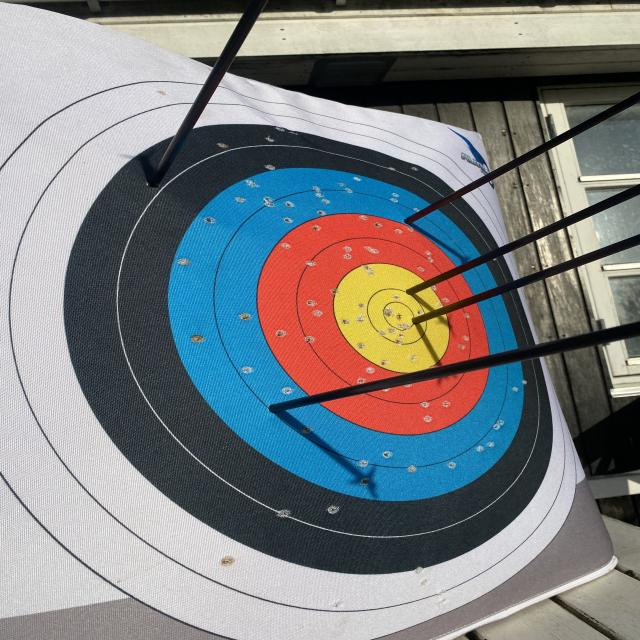Arrow_Black: (139, 149, 181, 195)
Arrow_Blue: (375, 201, 438, 239), (258, 389, 293, 422)
Arrow_Yellow: (398, 310, 439, 340), (401, 275, 424, 308)
